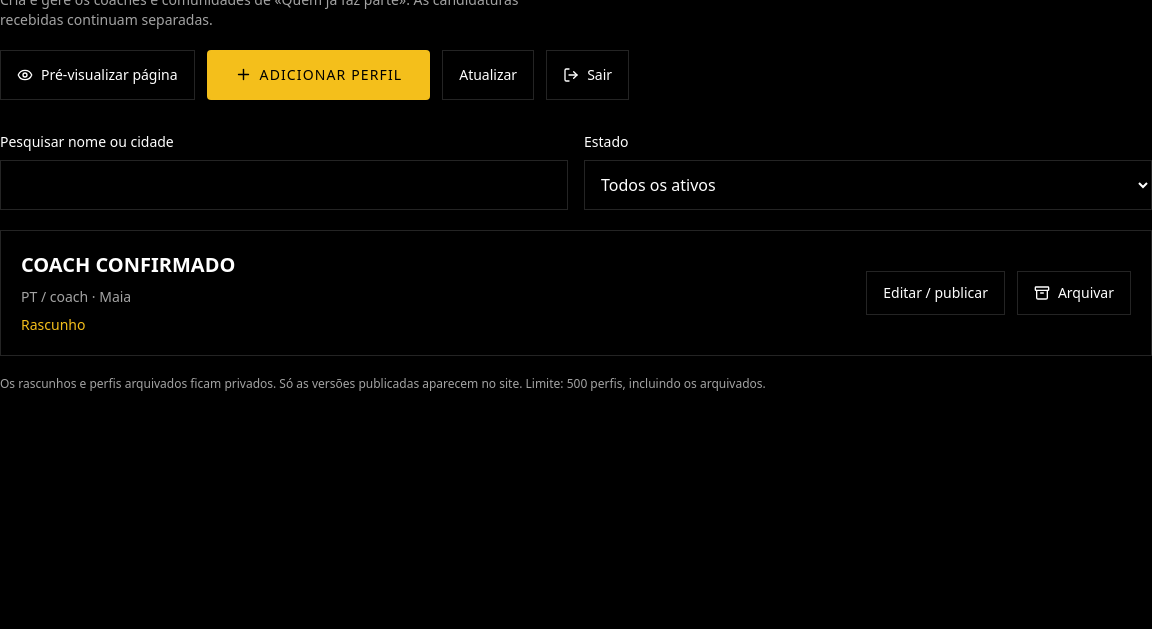
it: saves edits as drafts and enables publication only after saving and confirming permission
The width and height of the screenshot is (1152, 629).
Click the button "Editar / publicar".
click(936, 293)  # box [866,271,1005,315]
(page scrolled)
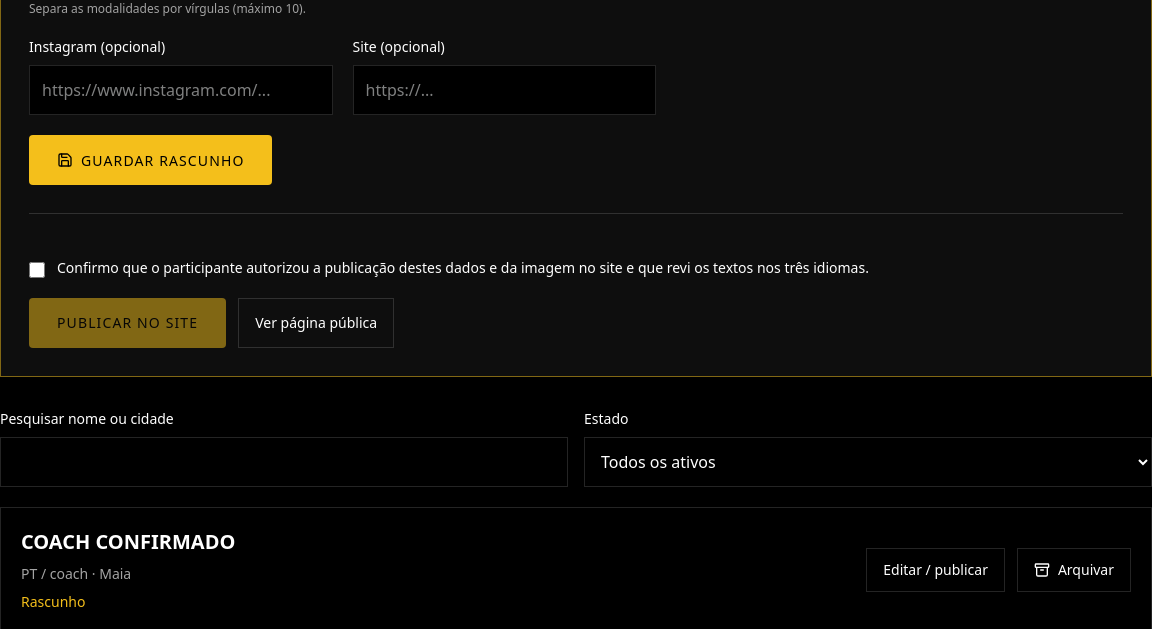
Check: the button "Publicar no site" is disabled, box [29,298,226,348]
Click the checkbox labelled "Confirmo que o participante".
click(37, 270)  # box [29,262,45,278]
(page scrolled)
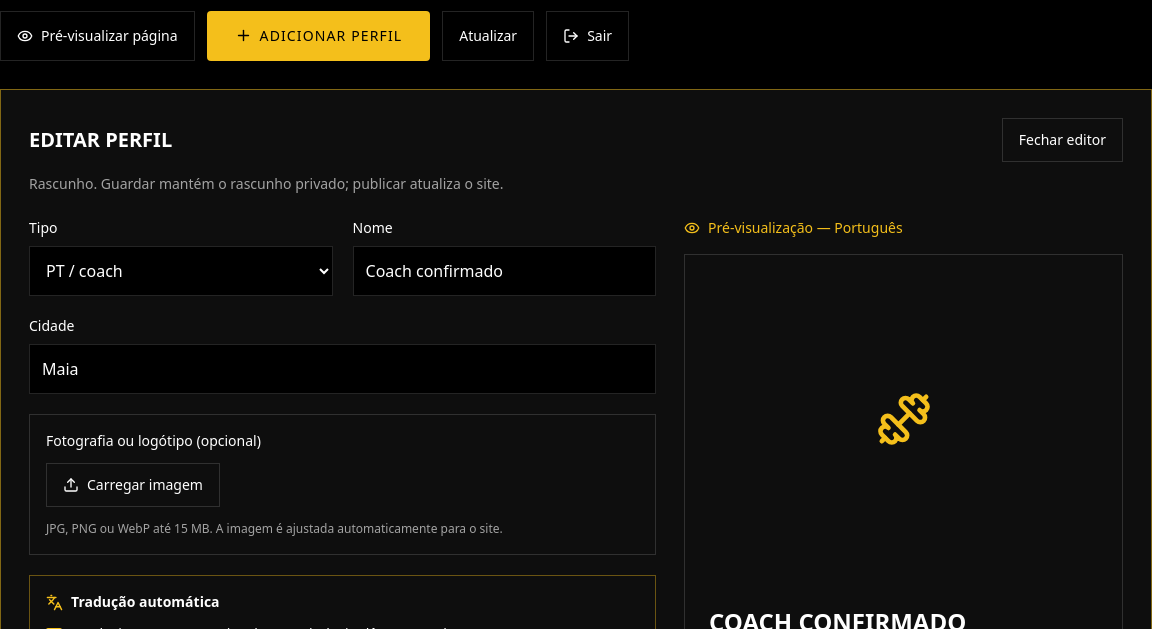
Replace the text in the field labelled "Nome" with "Nome revisto" at (504, 271), box [352,246,656,296]
(page scrolled)
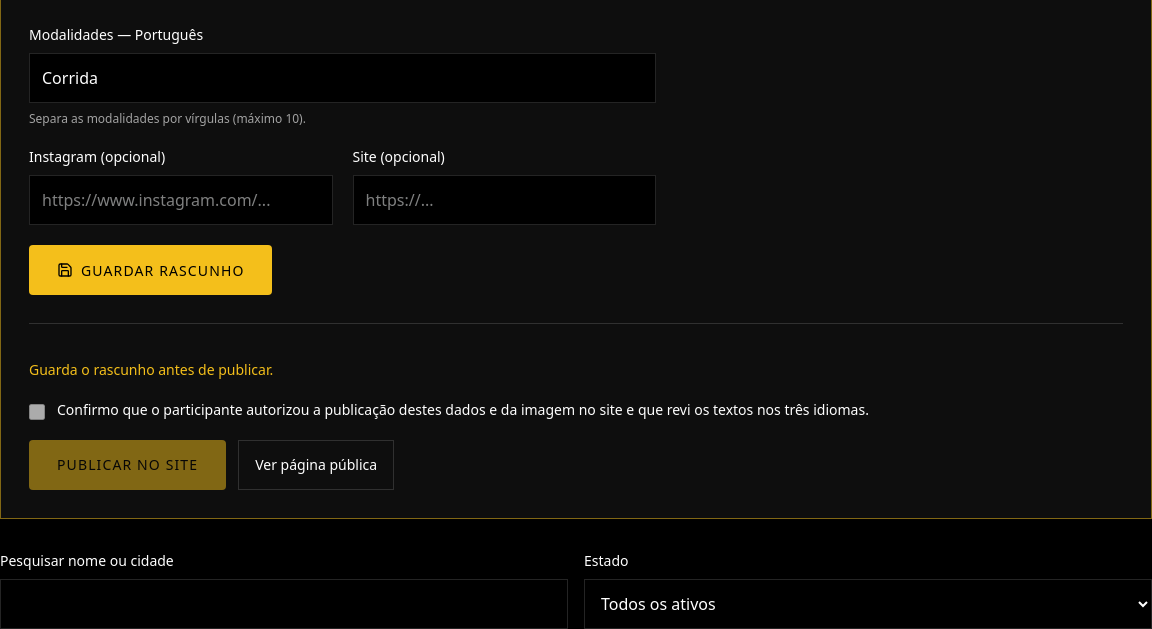
Check: the checkbox labelled "Confirmo que o participante" is not checked, box [29,404,45,420]
Check: the button "Publicar no site" is disabled, box [29,440,226,490]
Click the button "Guardar rascunho".
click(151, 270)  # box [29,245,272,295]
(page scrolled)
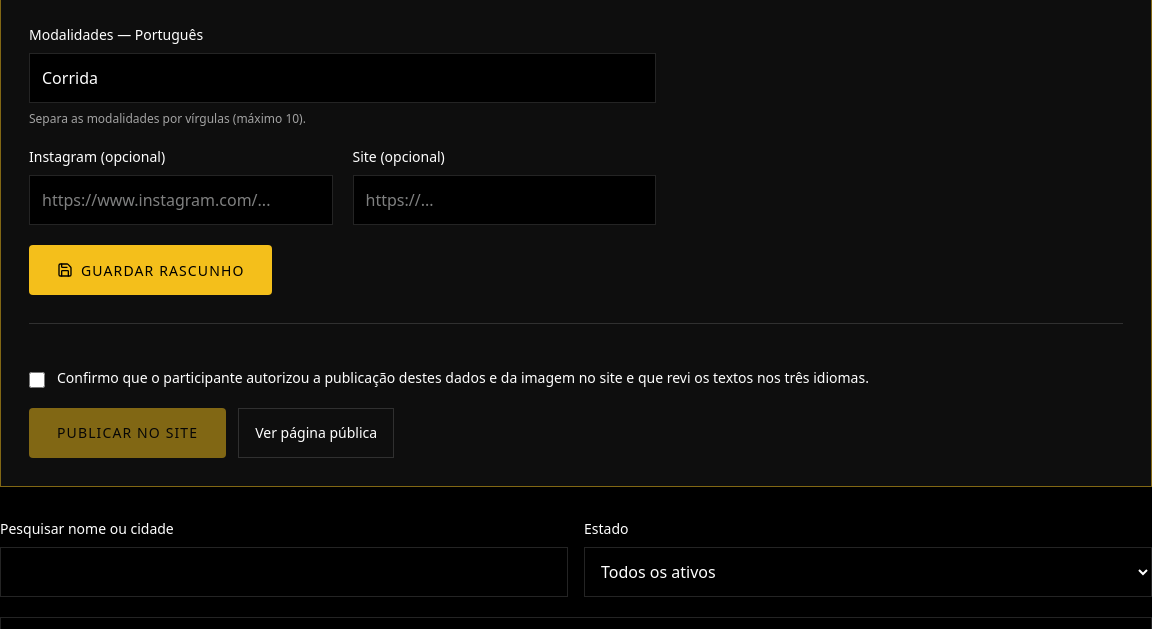
Check: the button "Publicar no site" is disabled, box [29,408,226,458]
Click the checkbox labelled "Confirmo que o participante".
click(37, 380)  # box [29,372,45,388]
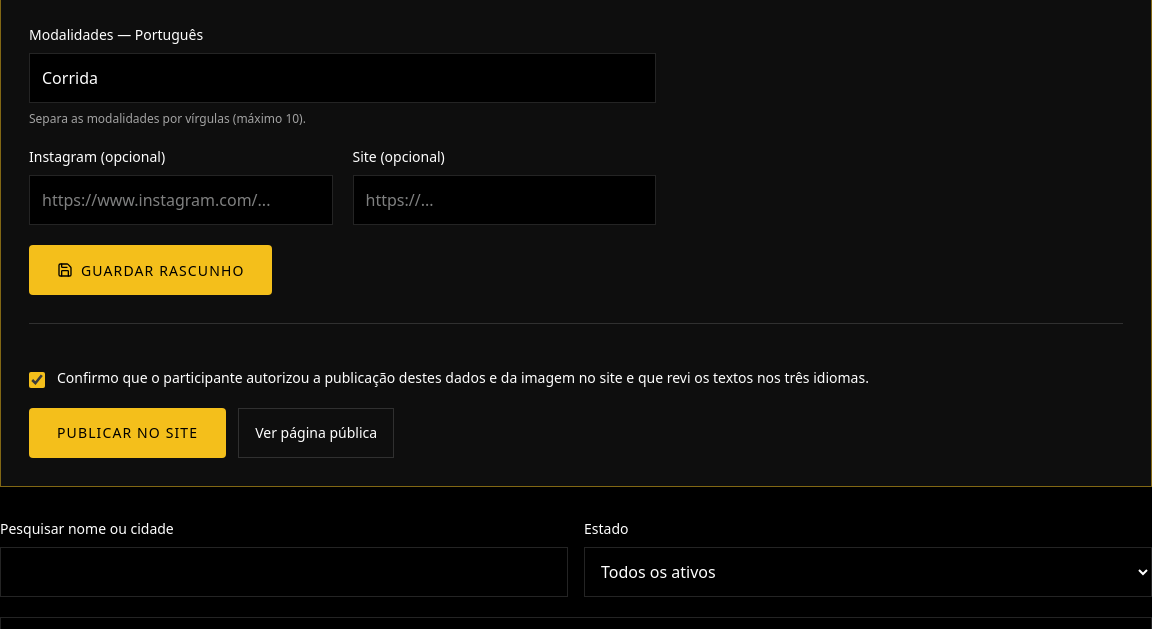
Check: the button "Publicar no site" is enabled
Click the button "Publicar no site".
click(128, 433)  # box [29,408,226,458]
(page scrolled)
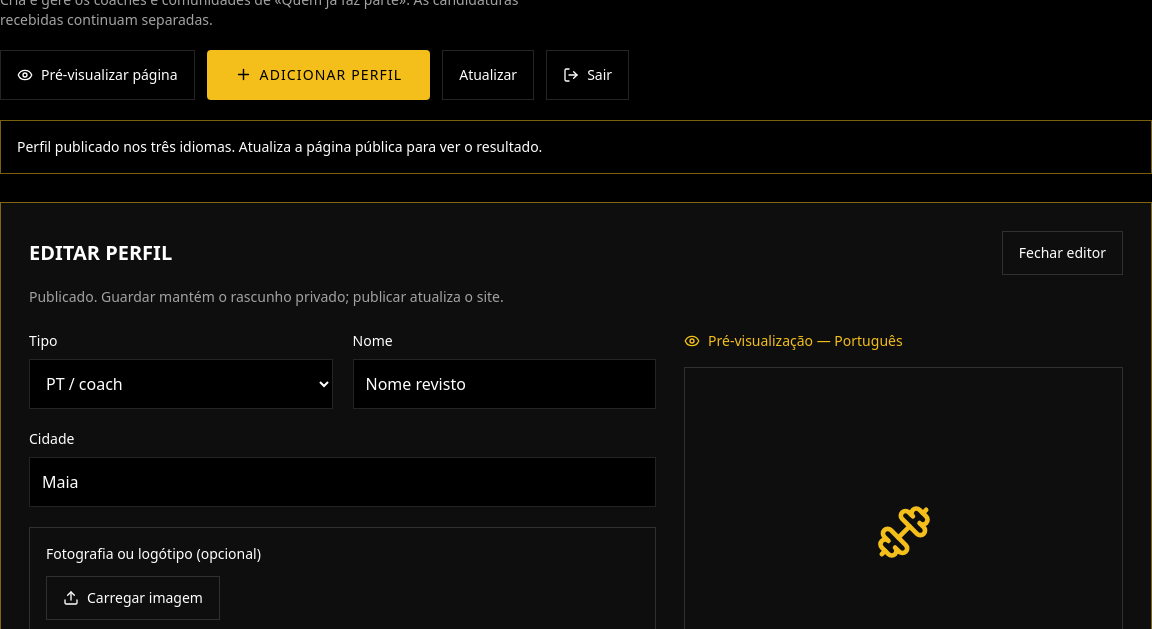
Check: the text "Perfil publicado nos três idiomas" is shown, box [17,137,542,156]
